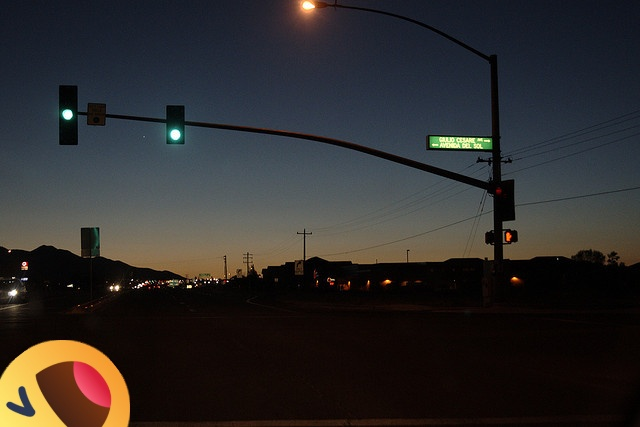haha: (0, 340, 130, 427)
